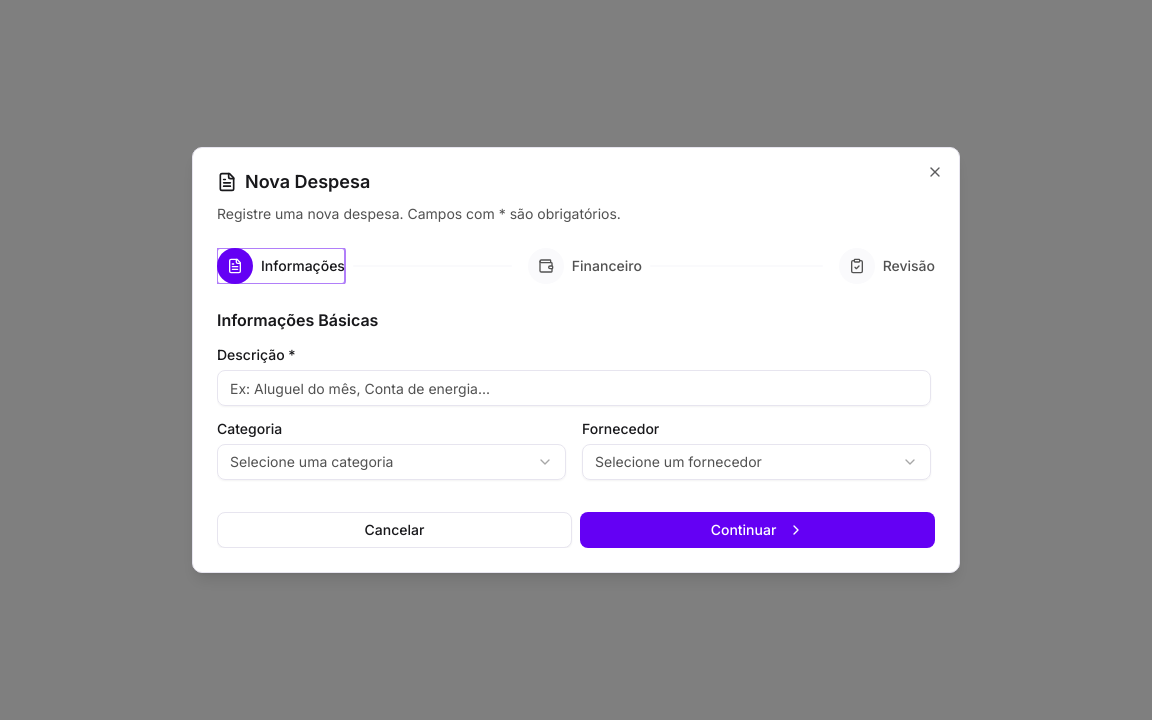
Scenario: ExpenseFormDialog - wizard de passos › avança até revisão sem submeter prematuramente
Type "Aluguel" into the field labelled "Descrição *". click: {"x": 574, "y": 388}
box: top-left (217, 370), bottom-right (931, 406)
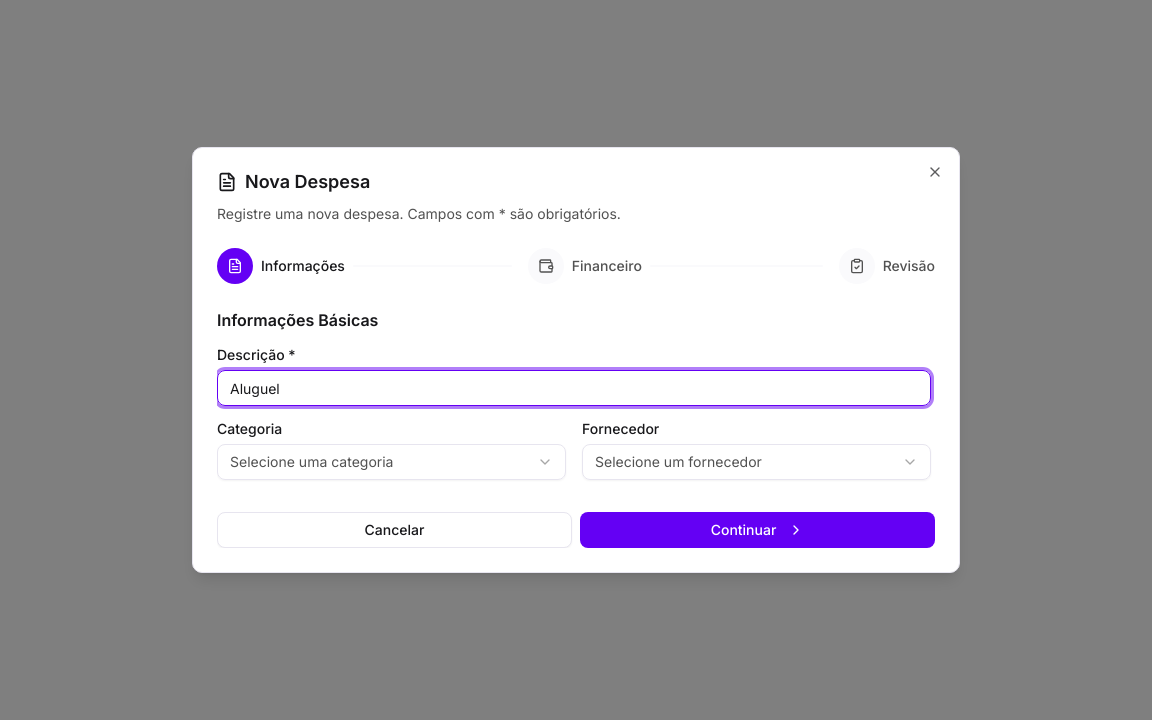
Click the button "Continuar". click: {"x": 758, "y": 530}
box: top-left (580, 512), bottom-right (935, 548)
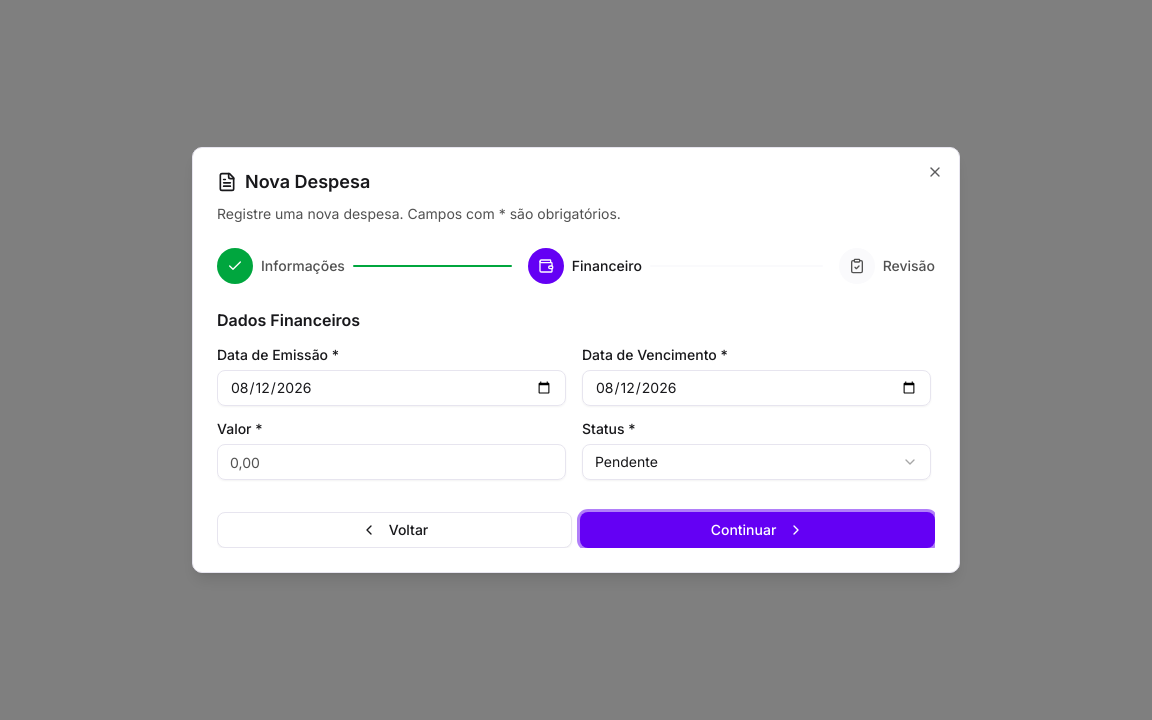
Now the number field labelled "Valor *" is shown
Type "1200" into the number field labelled "Valor *". click: {"x": 392, "y": 462}
box: top-left (217, 444), bottom-right (566, 480)
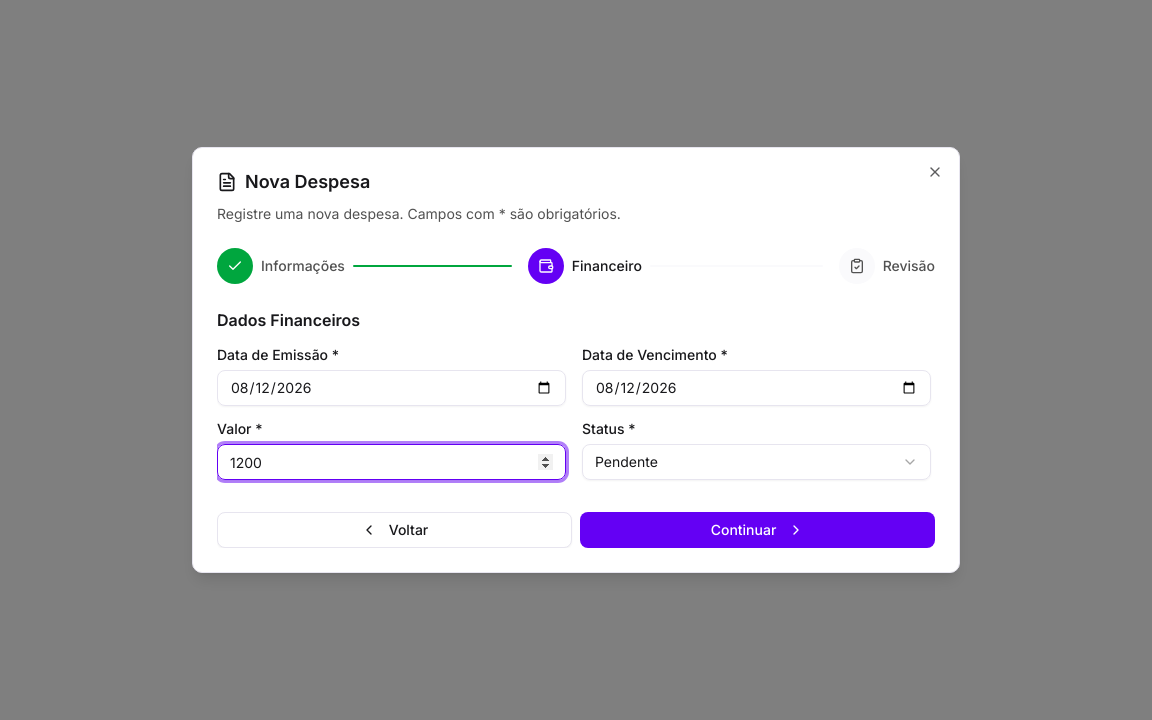
Click the button "Continuar". click: {"x": 758, "y": 530}
box: top-left (580, 512), bottom-right (935, 548)
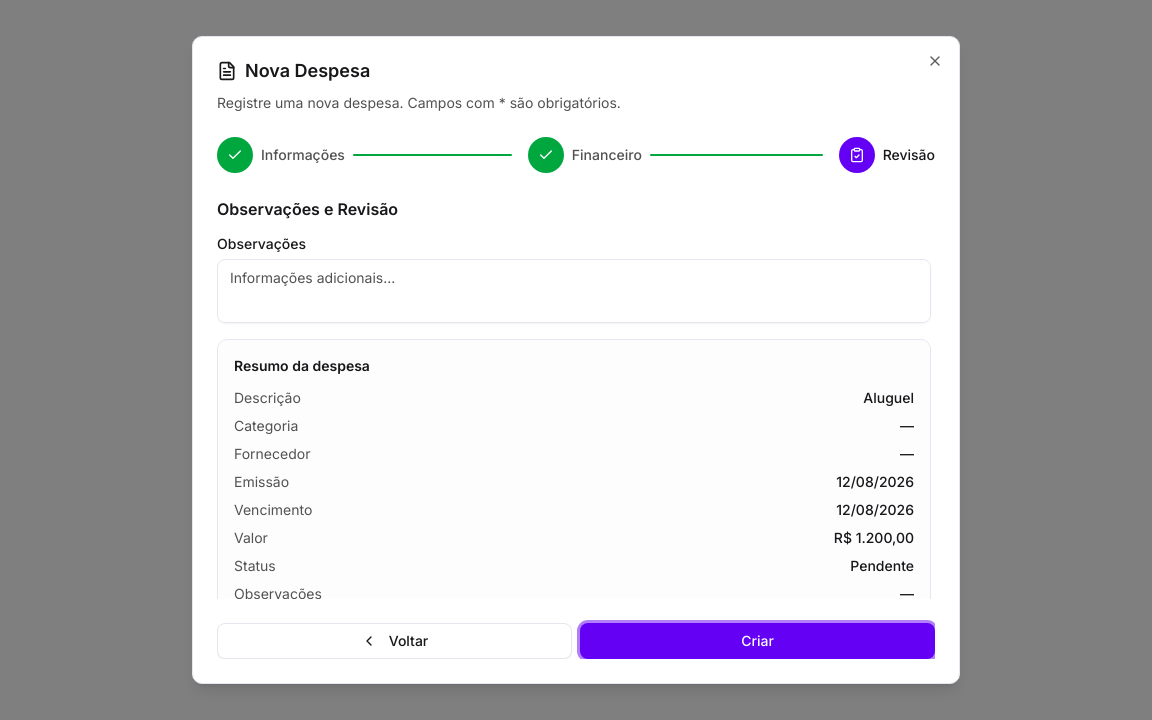
Now the heading "Resumo da despesa" is shown, box top-left (234, 357), bottom-right (370, 374)
